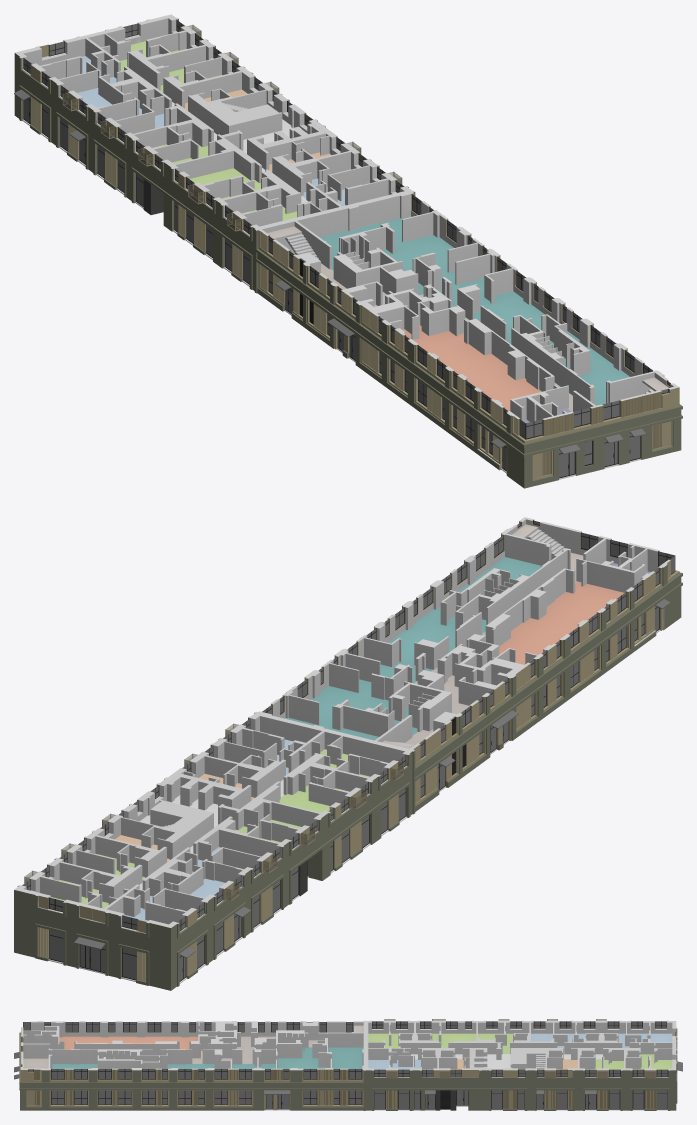
The model's file is House_Low_2fl.glb.
3 renders of one model, top to bottom at view 1: azimuth 30°, elevation 25°; view 2: azimuth 150°, elevation 25°; view 3: azimuth 270°, elevation 25°, orthographic. The views are drawn at different scales.
Visible parts, largest first — view 1: Cube.025; view 2: Cube.025; view 3: Cube.025.
Part boxes in pixels (x1,y1,x2,y2): Cube.025: (14, 14, 682, 488); Cube.025: (14, 517, 682, 990); Cube.025: (14, 1019, 682, 1110).
Bounding box in the file's own units: 17.06 × 5.92 × 88.6.
2 materials, 2 textured.
